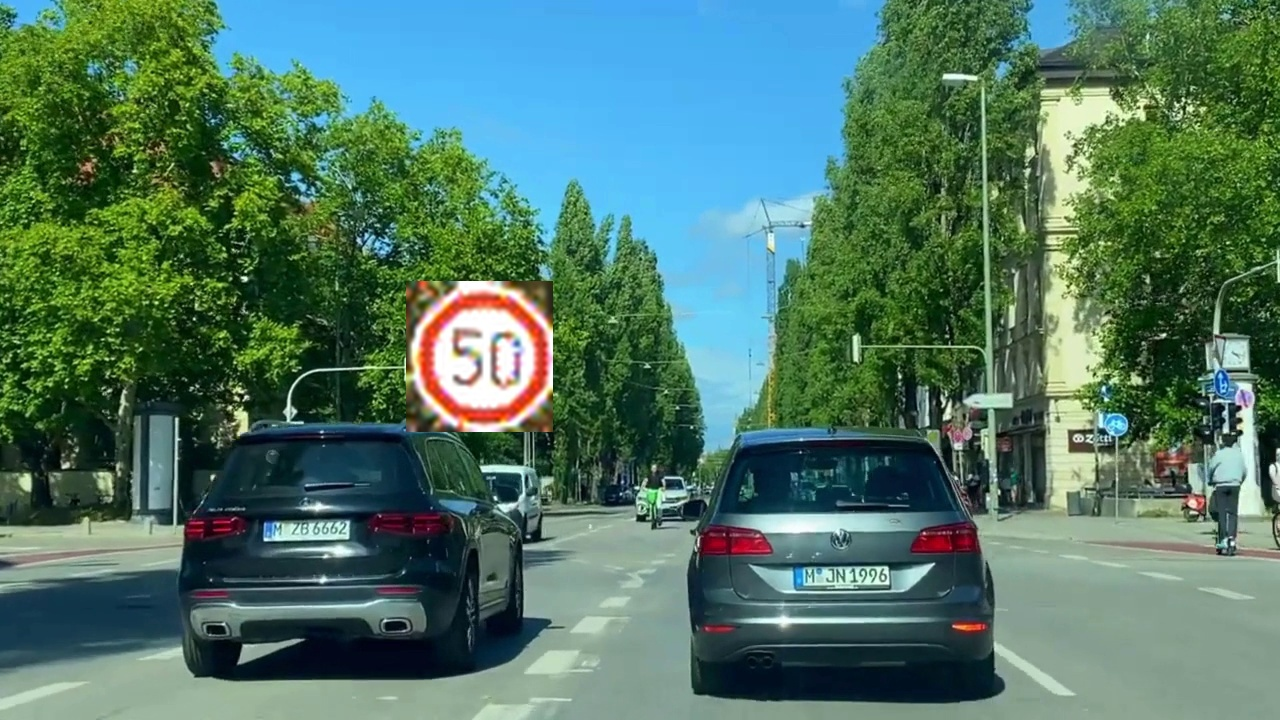Speed 50: (406, 281, 553, 432)
